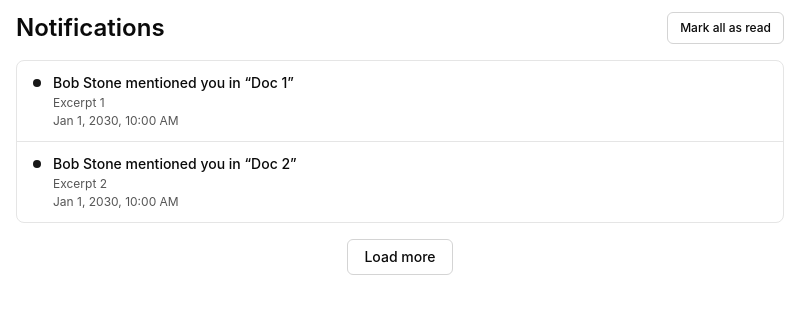
Scenario: NotificationsList › loads further pages with the cursor
Click the button "Load more" at (400, 257), box [347,239,452,275]
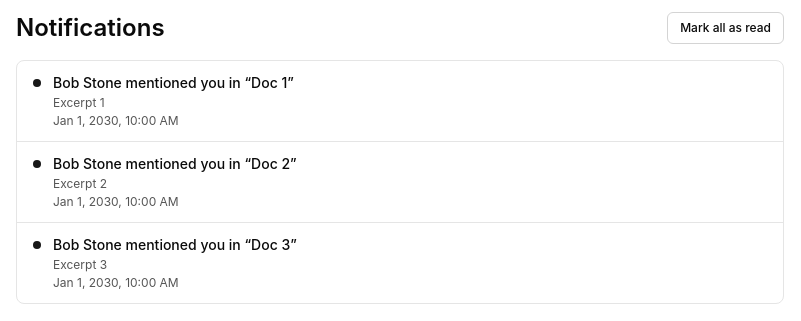
Expected: the text "Bob Stone mentioned you in “Doc 3”" is shown, [53,235,297,255]
Expected: the button "Load more" is gone
